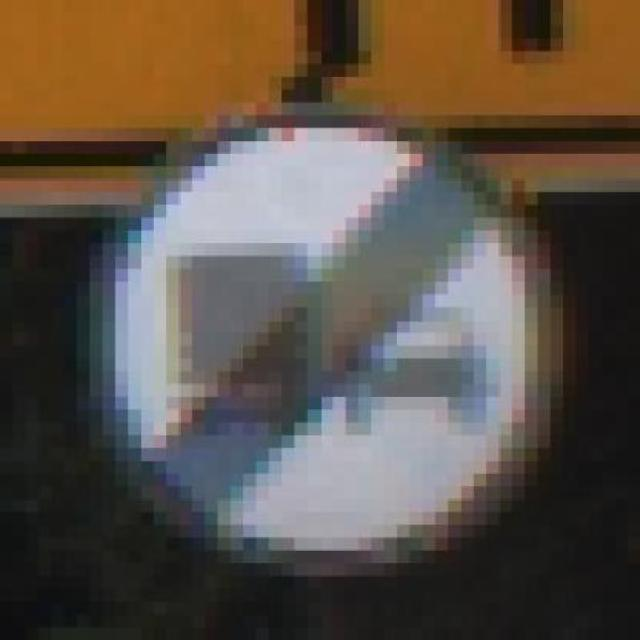Overtaking by trucks is prohibited: (64, 64, 602, 602)
